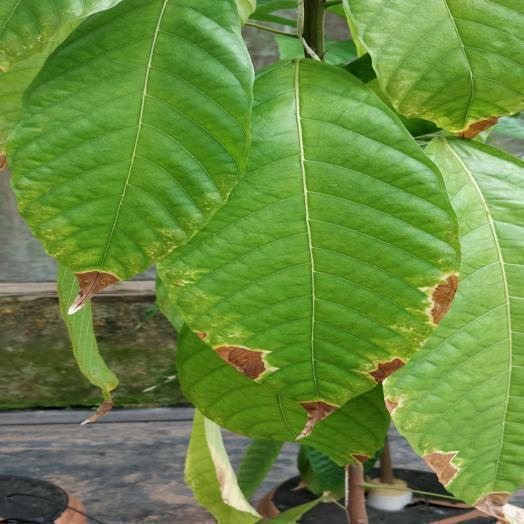Potassium: (163, 59, 457, 437), (9, 0, 253, 313), (385, 139, 523, 518)
